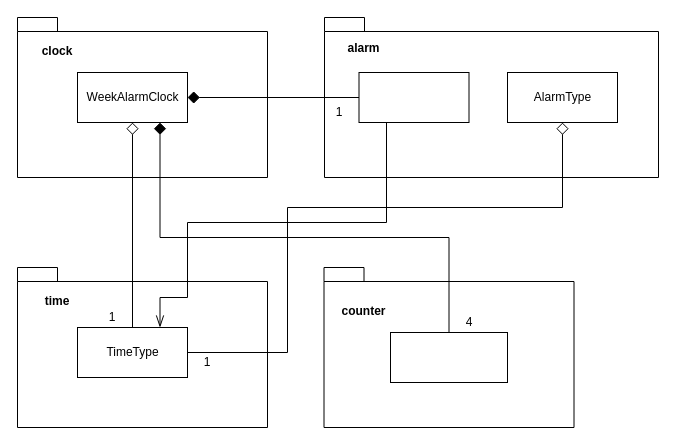
The diagram is 676 pixels wide and 445 high, and some of its shapes have lost their labels. Each missing label, with the box of its shape:
AlarmManager: (358, 72, 469, 122)
SettableCounterType: (390, 332, 508, 382)
